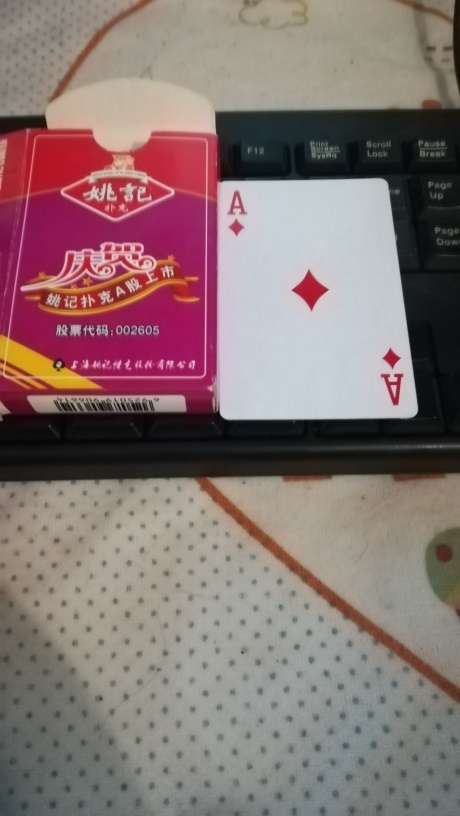fk a: (216, 176, 422, 421)
